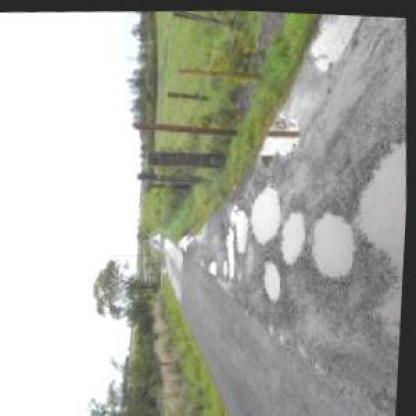pothole: (346, 122, 411, 273), (307, 204, 359, 277), (368, 273, 404, 345), (247, 180, 284, 243), (276, 204, 311, 261), (259, 254, 286, 301), (229, 200, 252, 251), (226, 224, 240, 278), (208, 256, 220, 272)
